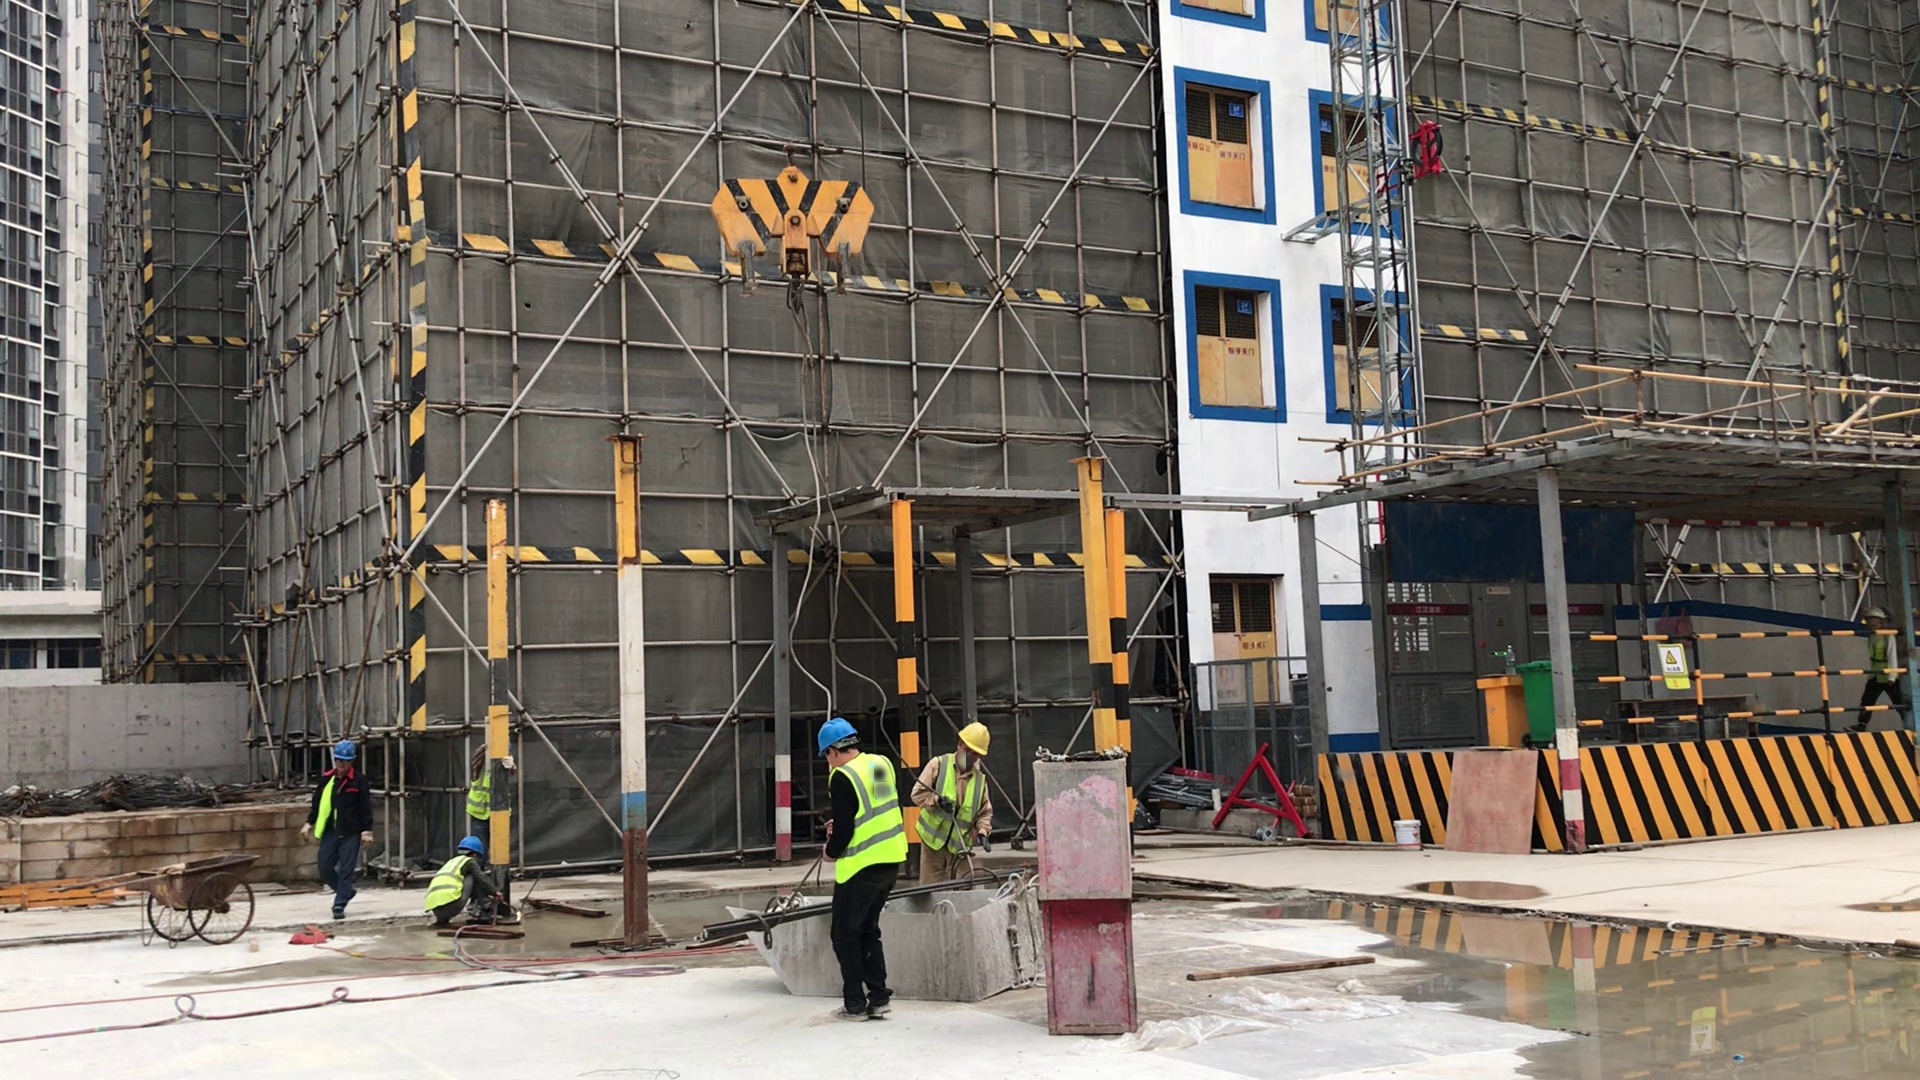fence: (1564, 624, 1920, 765)
handcart: (87, 834, 272, 954)
helmet: (804, 711, 867, 756), (954, 714, 1005, 765), (450, 833, 489, 864), (327, 737, 363, 762), (1859, 605, 1889, 621)
hook: (700, 139, 906, 320)
hopper: (698, 876, 1048, 1016)
person: (793, 689, 919, 1051), (902, 700, 1016, 904), (301, 718, 386, 923), (419, 815, 524, 943), (1849, 600, 1909, 743), (451, 737, 531, 835)
rebar: (694, 893, 840, 943), (884, 872, 1035, 899)
slogan: (1649, 638, 1710, 693)
vest: (822, 749, 916, 899), (918, 751, 990, 862), (299, 768, 368, 849), (418, 847, 486, 923), (457, 739, 506, 822), (1861, 633, 1898, 686)
